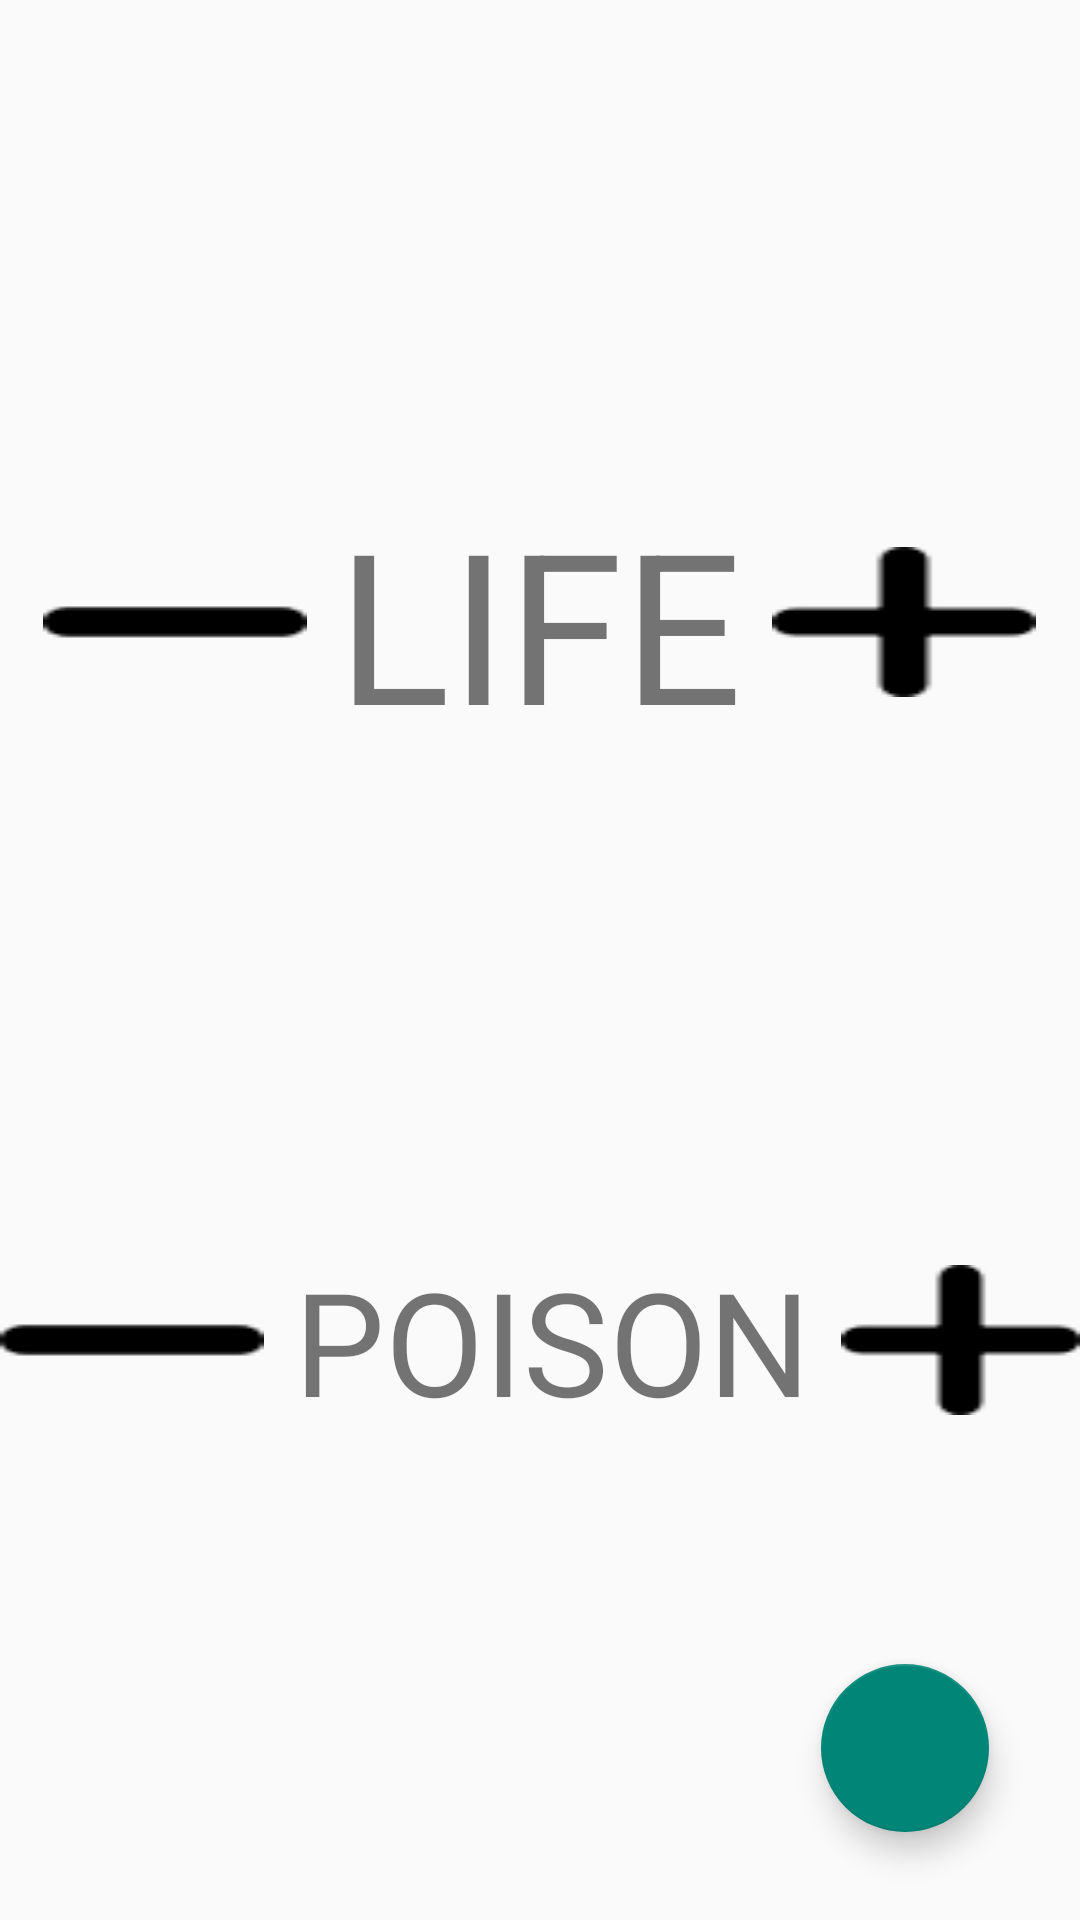

Icon bounding boxes for this 1080 x 1920 phone screenshot, format box(x1, y1, x2, y2):
plus sign: box(772, 547, 1036, 697), box(841, 1265, 1080, 1415)
